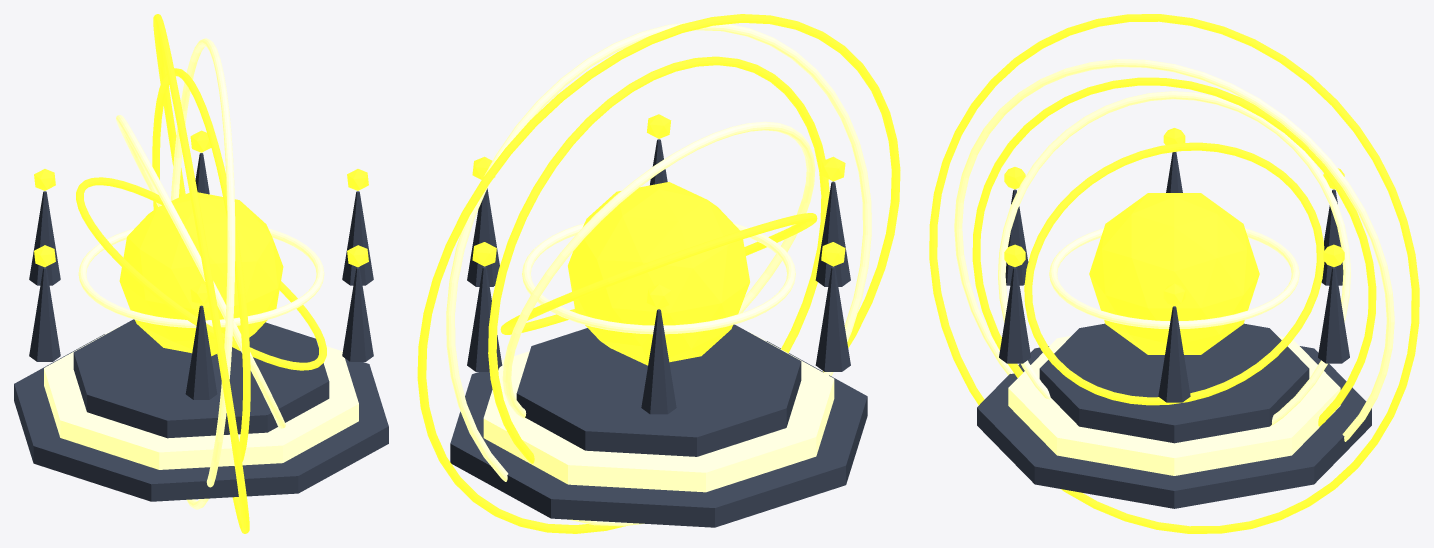
Rendered from gpu-blender-v30.glb.
3 views of the same model, side by side, from view 1: azimuth 30°, elevation 25°; view 2: azimuth 150°, elevation 25°; view 3: azimuth 270°, elevation 25° (orthographic). The views are drawn at different scales.
Parts seen in each view (by area): view 1: Cylinder.002, Cylinder, SovereignCore_agent-capsule-jail, Cylinder.001, Torus.005, Torus.004, Torus.003, Torus.001, Torus, Torus.002, Cone.003, Cone.005 (+3 smaller); view 2: Cylinder.002, SovereignCore_agent-capsule-jail, Cylinder, Cylinder.001, Torus.005, Torus.004, Torus.003, Torus.002, Torus.001, Torus, Cone.002, Cone.003 (+3 smaller); view 3: SovereignCore_agent-capsule-jail, Cylinder.002, Cylinder, Cylinder.001, Torus.005, Torus.004, Torus.001, Torus.003, Torus.002, Torus, Cone, Cone.001 (+3 smaller).
Boxes of the visible parts, left/top/right/bottom form: Cylinder.002: left=73, top=319, right=329, bottom=438; Cylinder: left=14, top=334, right=388, bottom=501; SovereignCore_agent-capsule-jail: left=119, top=192, right=283, bottom=356; Cylinder.001: left=44, top=326, right=358, bottom=469; Torus.005: left=153, top=14, right=249, bottom=533; Torus.004: left=171, top=38, right=235, bottom=509; Torus.003: left=152, top=68, right=250, bottom=461; Torus.001: left=76, top=177, right=326, bottom=370; Torus: left=78, top=228, right=324, bottom=327; Torus.002: left=116, top=115, right=285, bottom=428; Cone.003: left=29, top=267, right=60, bottom=361; Cone.005: left=342, top=267, right=373, bottom=361; Cylinder.002: left=516, top=324, right=801, bottom=456; SovereignCore_agent-capsule-jail: left=568, top=182, right=749, bottom=365; Cylinder: left=450, top=341, right=867, bottom=527; Cylinder.001: left=483, top=332, right=834, bottom=492; Torus.005: left=417, top=14, right=900, bottom=533; Torus.004: left=446, top=22, right=871, bottom=526; Torus.003: left=488, top=56, right=829, bottom=463; Torus.002: left=502, top=121, right=815, bottom=418; Torus.001: left=500, top=213, right=817, bottom=334; Torus: left=522, top=223, right=795, bottom=334; Cone.002: left=641, top=309, right=676, bottom=414; Cone.003: left=815, top=267, right=850, bottom=371; SovereignCore_agent-capsule-jail: left=1089, top=193, right=1259, bottom=354; Cylinder.002: left=1039, top=323, right=1309, bottom=443; Cylinder: left=977, top=346, right=1371, bottom=508; Cylinder.001: left=1008, top=336, right=1340, bottom=475; Torus.005: left=929, top=14, right=1419, bottom=533; Torus.004: left=954, top=59, right=1394, bottom=441; Torus.001: left=1024, top=142, right=1324, bottom=405; Torus.003: left=972, top=77, right=1376, bottom=426; Torus.002: left=998, top=91, right=1350, bottom=425; Torus: left=1049, top=228, right=1299, bottom=328; Cone: left=1158, top=306, right=1190, bottom=402; Cone.001: left=1318, top=267, right=1349, bottom=363.
Size of the model in its own units: 4.41 by 5.93 by 5.46.
